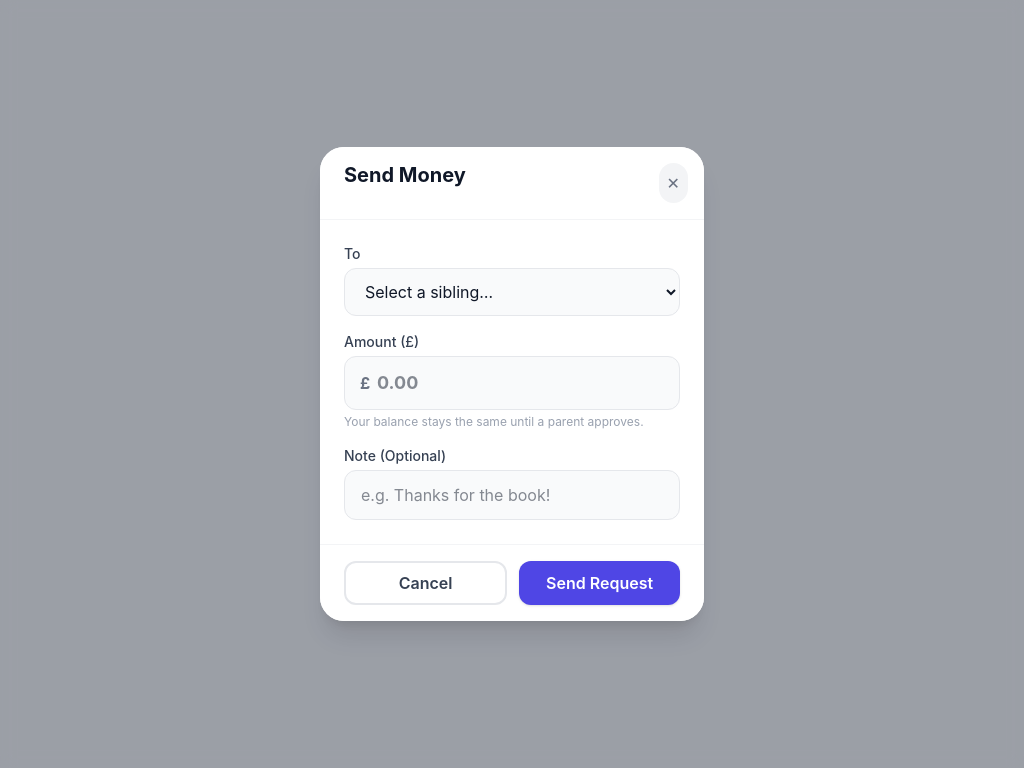
it: SendMoneyModal — submission › blocks an amount that exceeds the canonical balance
Select "Child Two" in the dropdown labelled "To" at (512, 292), box x1=344 y1=268 x2=680 y2=316
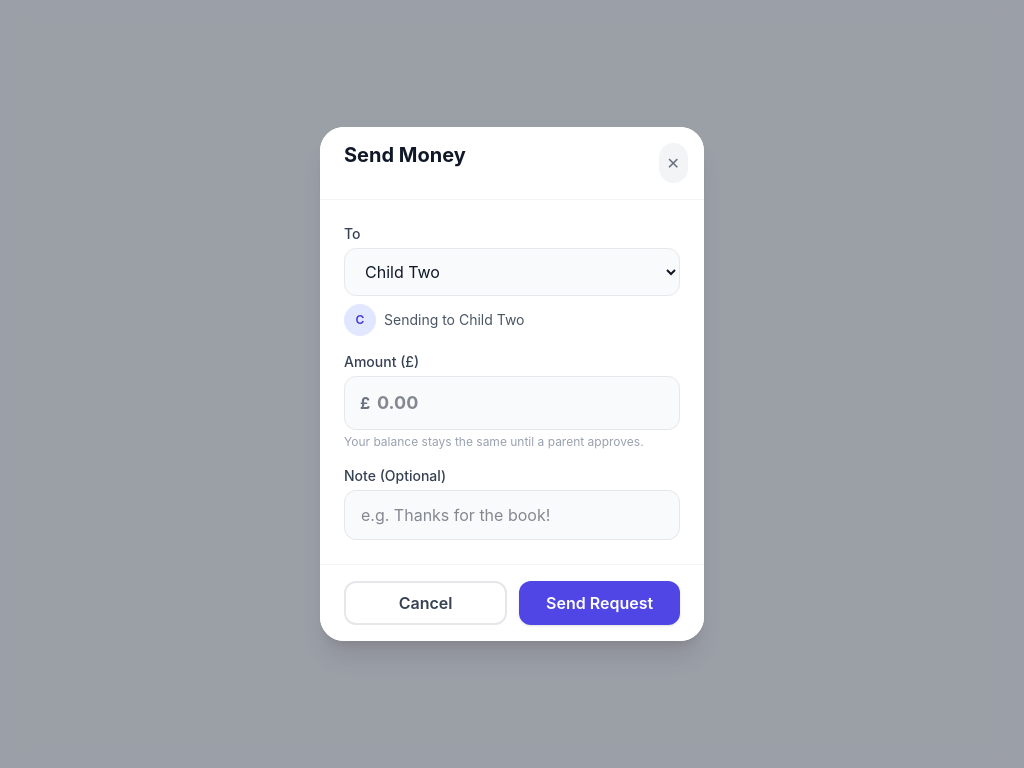
Type "10.00" into the number field labelled "Amount (£)" at (512, 403), box x1=344 y1=376 x2=680 y2=430
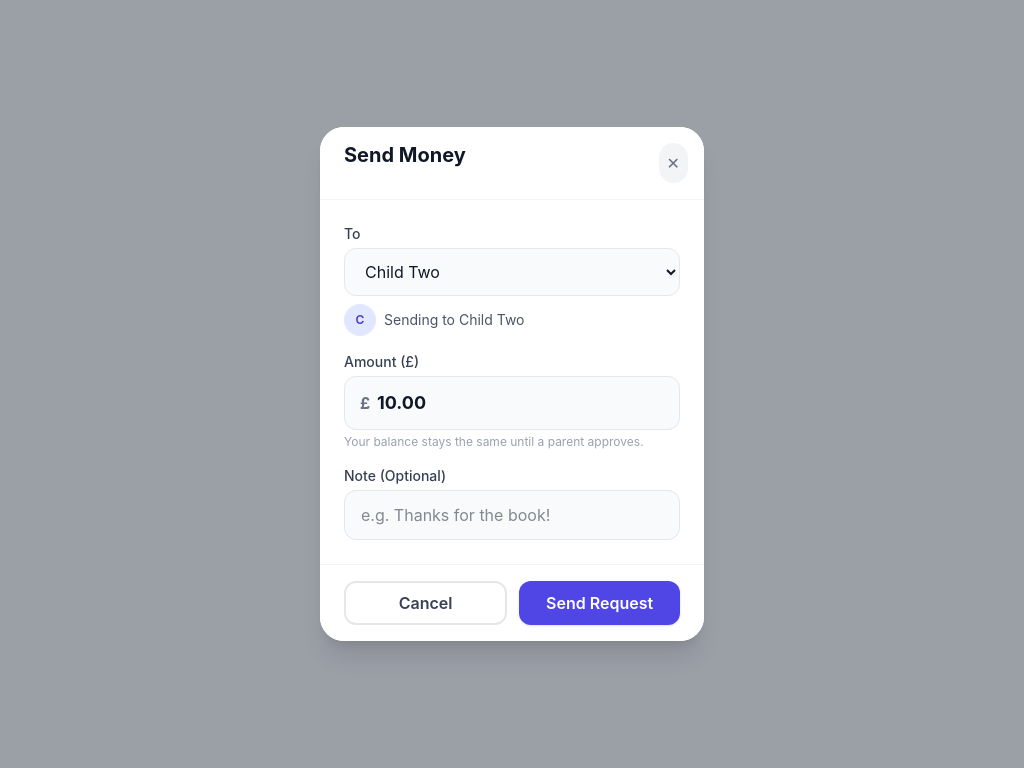
Submit the form with test id "send-money-form", box x1=320 y1=200 x2=704 y2=641
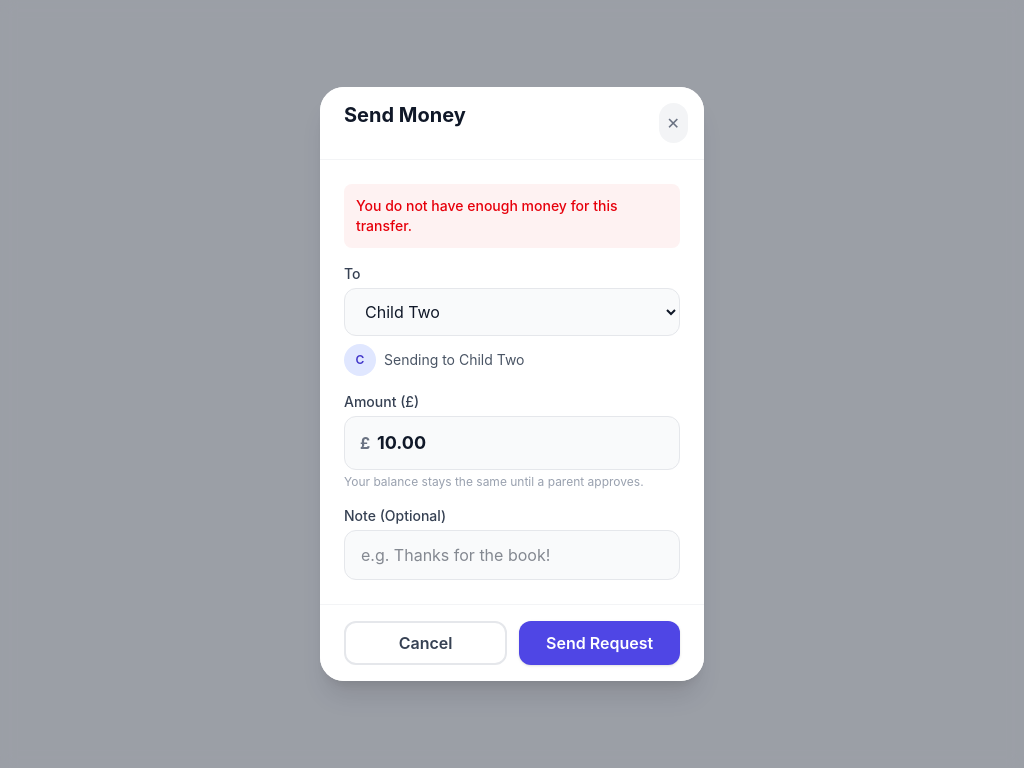
Now the text "You do not have enough money for this transfer." is shown, box x1=344 y1=184 x2=680 y2=248
